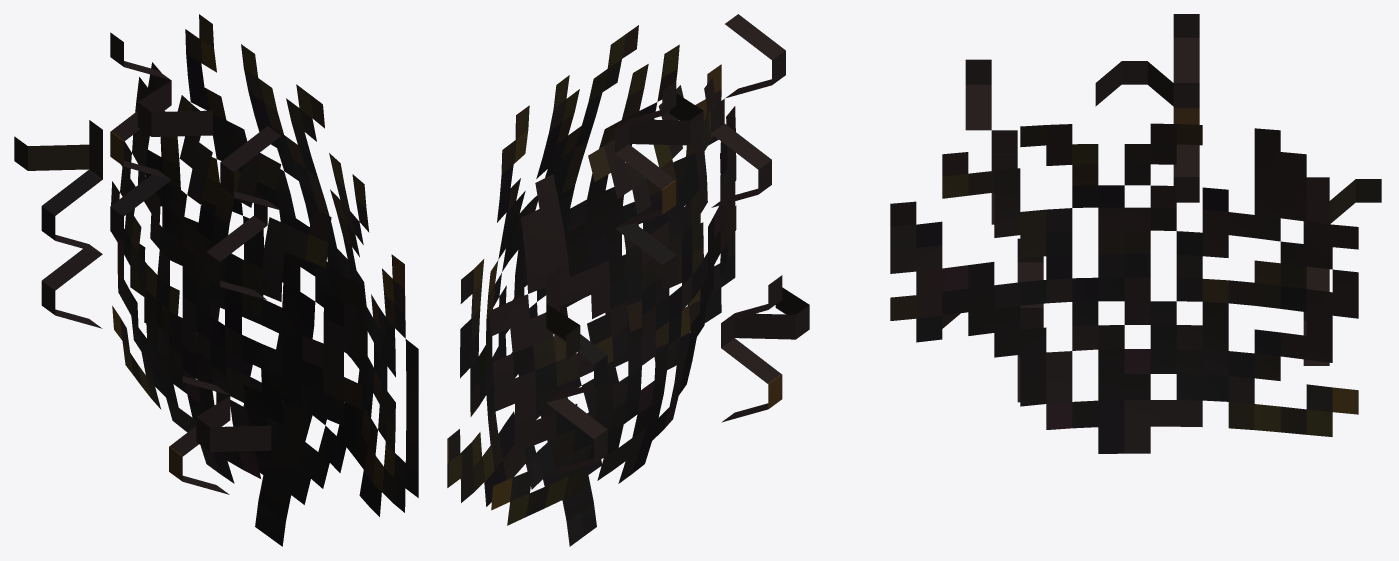
Rendered from EnvFldMD_Grass_A_Dry_MA.FBX.
3 renders of one model, left to right at view 1: azimuth 30°, elevation 25°; view 2: azimuth 150°, elevation 25°; view 3: azimuth 270°, elevation 25°, orthographic. The views are drawn at different scales.
Visible parts, largest first — view 1: EnvFldMD_Grass_A_Dry_MA; view 2: EnvFldMD_Grass_A_Dry_MA; view 3: EnvFldMD_Grass_A_Dry_MA.
Part boxes in pixels (x1=…): EnvFldMD_Grass_A_Dry_MA: x1=14, y1=14, x2=418, y2=546; EnvFldMD_Grass_A_Dry_MA: x1=447, y1=14, x2=809, y2=546; EnvFldMD_Grass_A_Dry_MA: x1=890, y1=14, x2=1381, y2=453.
Size of the model in its own units: 39.76 by 101 by 105.
Materials: 1 (1 with a texture image).
